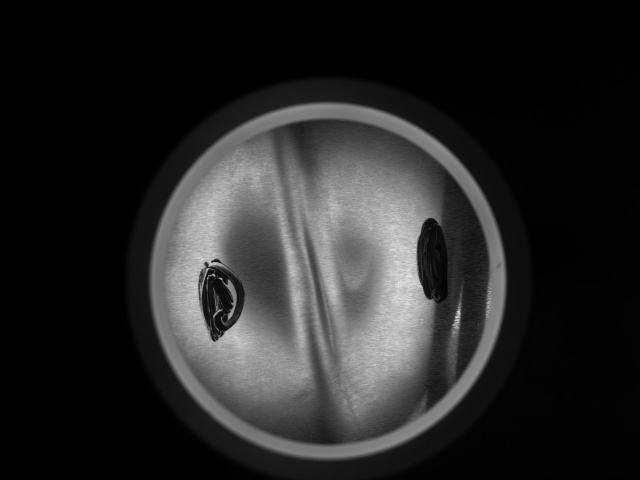zang_wu: (197, 256, 248, 344), (415, 216, 451, 305)
zhe_zhou: (200, 154, 454, 406)
